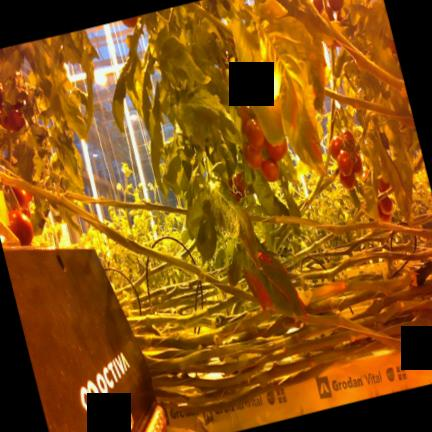MainStem: (0, 171, 256, 300), (326, 14, 404, 90), (251, 215, 432, 238), (324, 87, 407, 119), (66, 191, 186, 213), (324, 99, 334, 170)
tomato: (8, 209, 33, 245), (245, 119, 264, 149), (265, 138, 287, 161), (243, 143, 262, 169), (5, 108, 24, 131), (12, 186, 32, 207), (336, 149, 352, 175), (261, 159, 279, 181), (329, 136, 343, 158), (239, 104, 249, 133), (339, 172, 355, 189), (378, 195, 392, 213), (233, 173, 244, 194), (0, 104, 9, 129), (341, 128, 354, 145), (378, 205, 391, 222), (352, 153, 362, 173), (377, 177, 389, 191), (122, 16, 137, 27), (312, 0, 323, 13), (328, 0, 342, 10)
